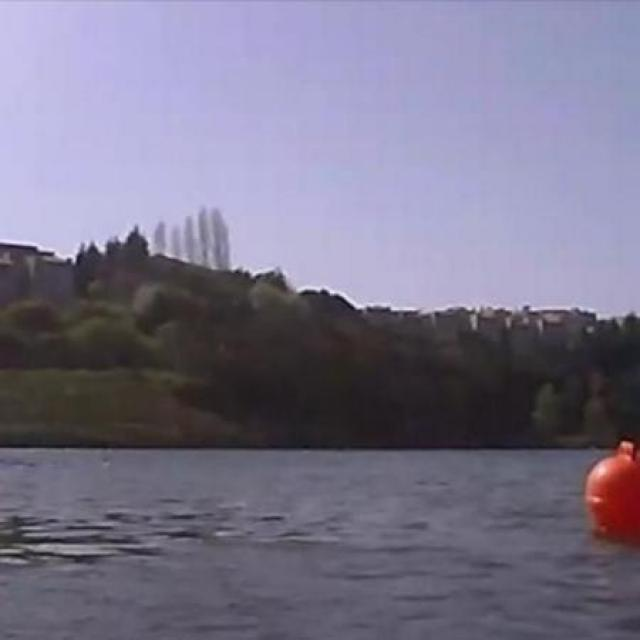buoy: (583, 436, 639, 540)
